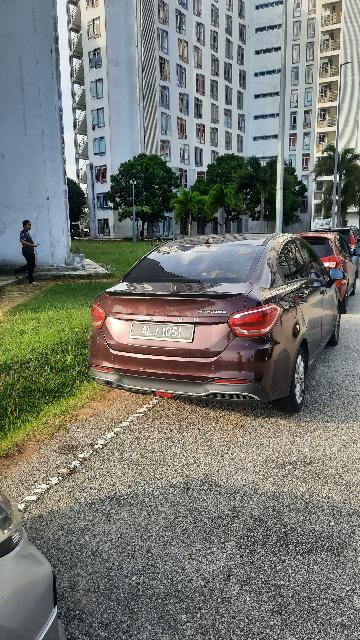License_Plate: (122, 317, 200, 347)
car: (86, 217, 348, 422)
